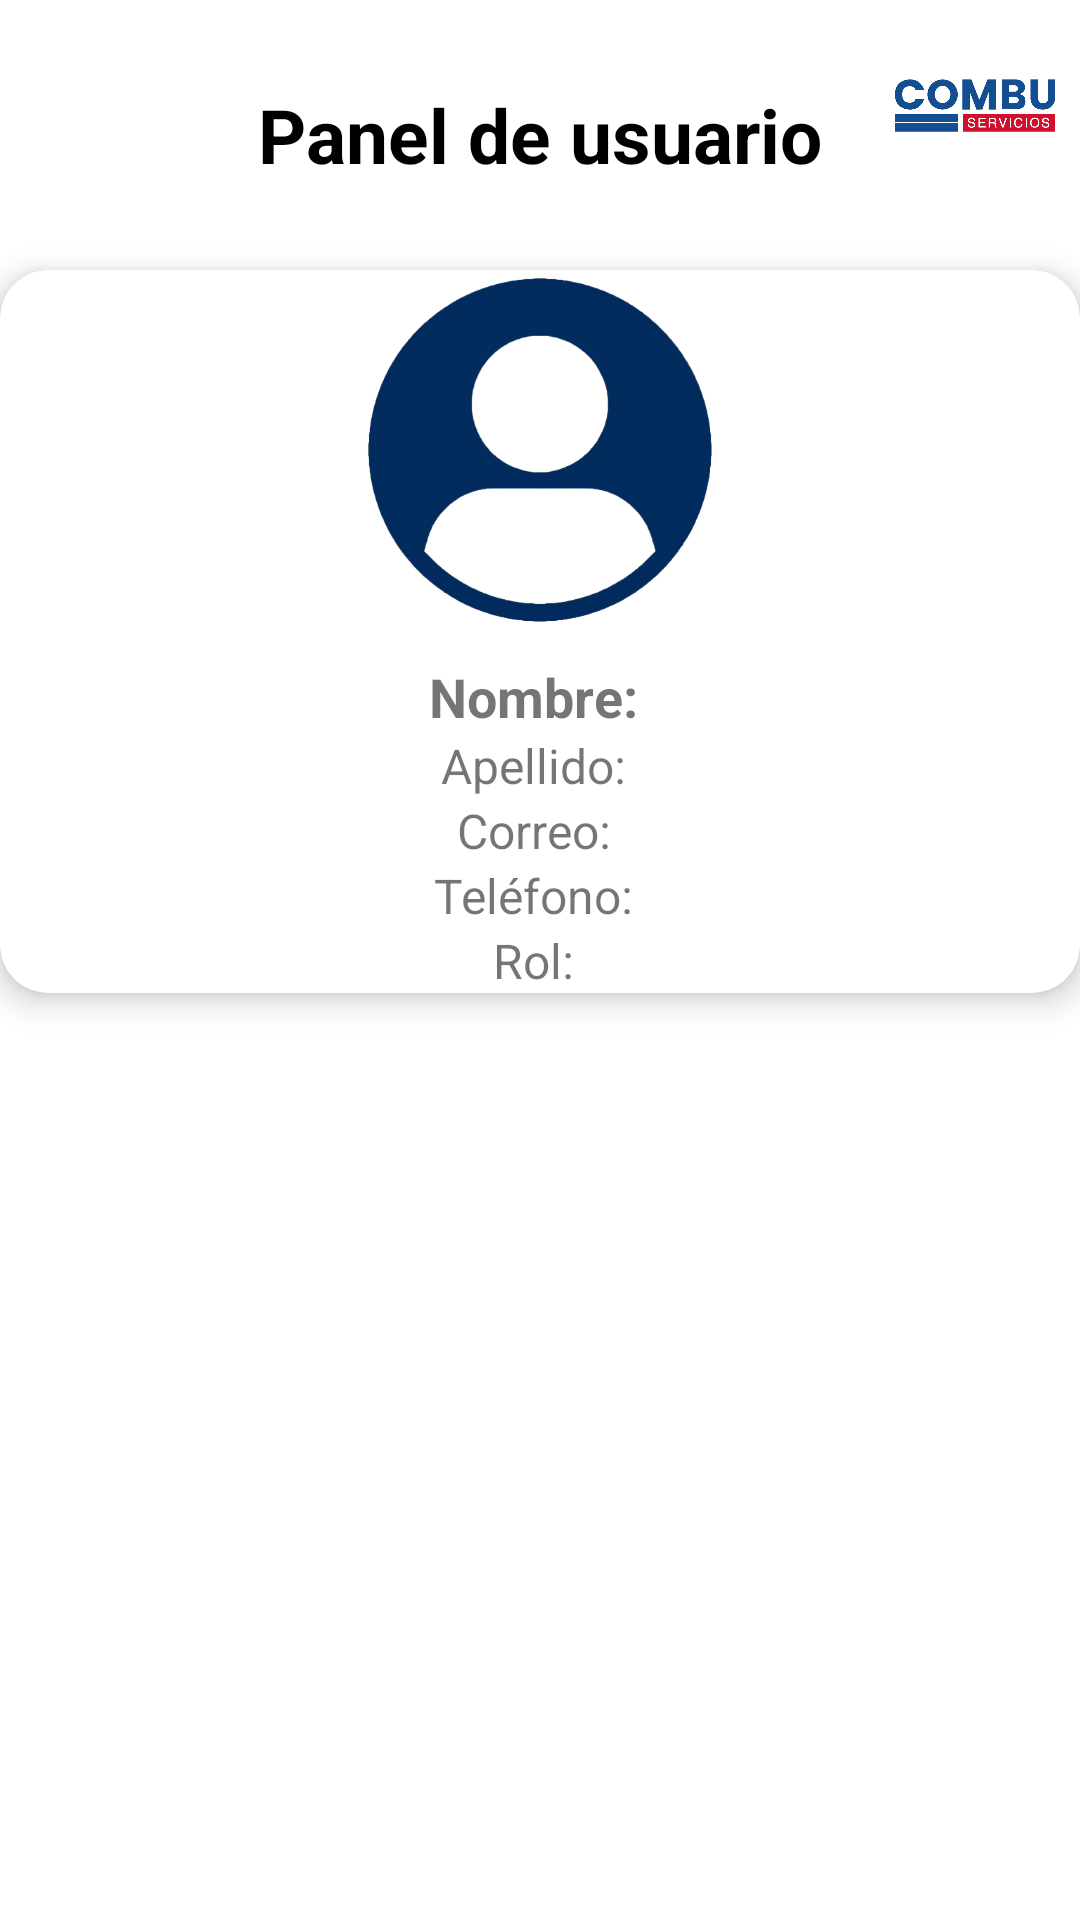

Locate icon controls on the screen. Image size 1080w x 1920h, boxes as box(x1, y1, x2, y2).
usertrans: box(368, 278, 712, 622)
